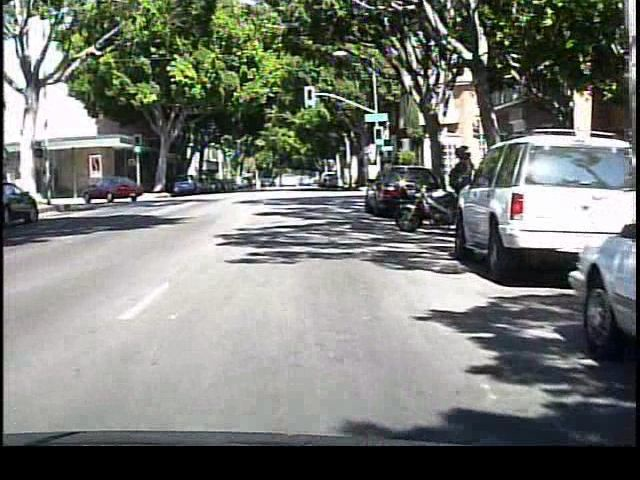person: (444, 134, 487, 240)
